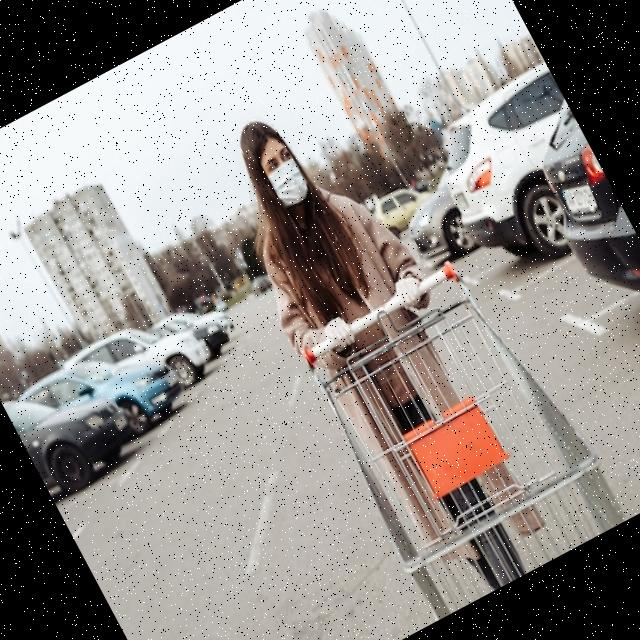Person: (185, 79, 571, 622)
